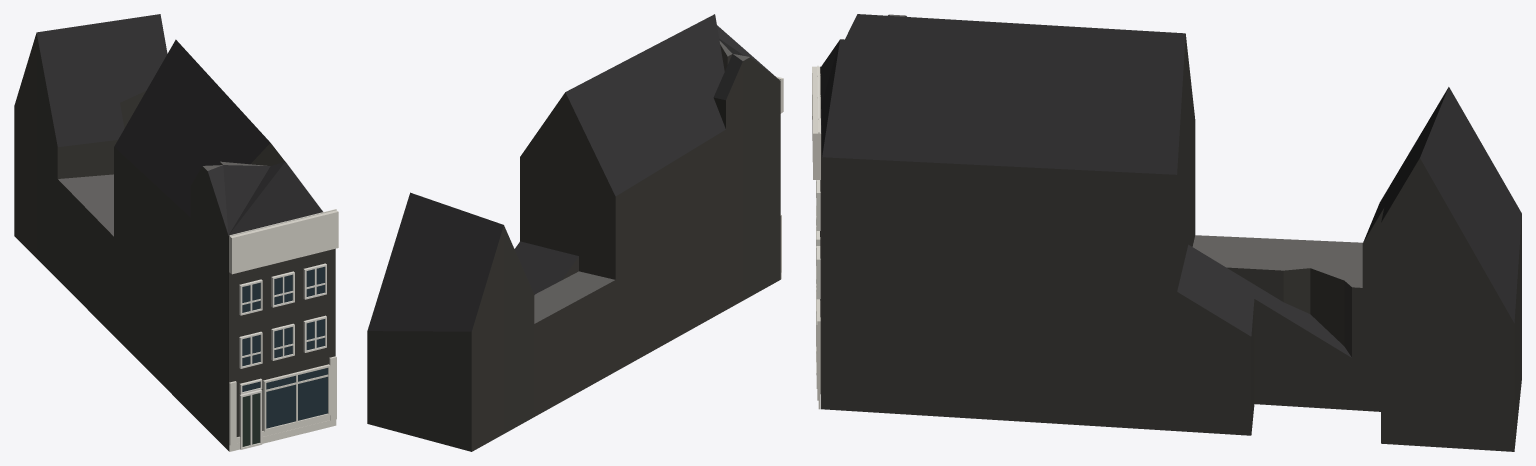
3 renders of one model, left to right at view 1: azimuth 30°, elevation 25°; view 2: azimuth 150°, elevation 25°; view 3: azimuth 270°, elevation 25°, orthographic. The views are drawn at different scales.
Visible parts, largest first — view 1: spec-0363100012171919; view 2: spec-0363100012171919; view 3: spec-0363100012171919.
Part boxes in pixels (x1,y1,x2,y2): spec-0363100012171919: (14, 14, 338, 451); spec-0363100012171919: (367, 14, 783, 451); spec-0363100012171919: (812, 14, 1521, 451).
Size of the model in its own units: 8.11 by 12.61 by 22.21.
